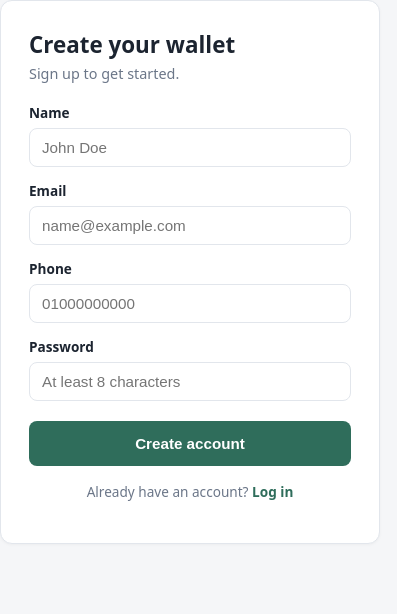
Register › shows a validation error when the password is too short
The width and height of the screenshot is (397, 614).
Type "Jane Doe" into the field labelled "Name".
click(190, 148); type("Jane Doe")  # box [29, 128, 351, 167]
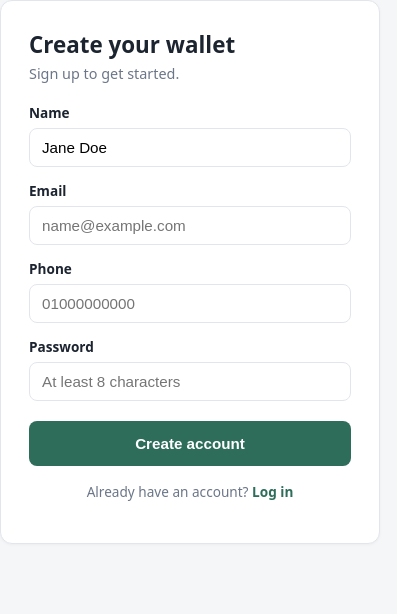
Type "jane@example.com" into the field labelled "Email".
click(190, 226); type("jane@example.com")  # box [29, 206, 351, 245]
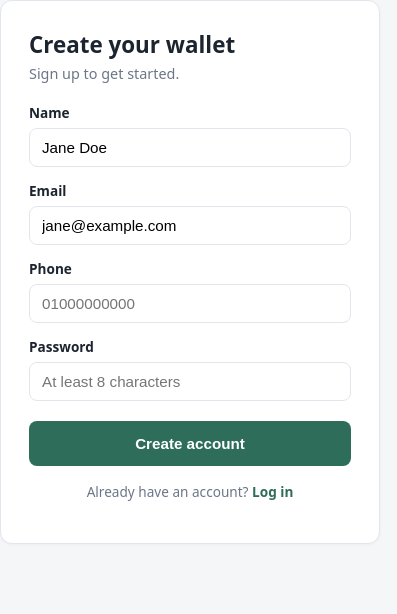
Type "0100000000" into the field labelled "Phone".
click(190, 304); type("0100000000")  # box [29, 284, 351, 323]
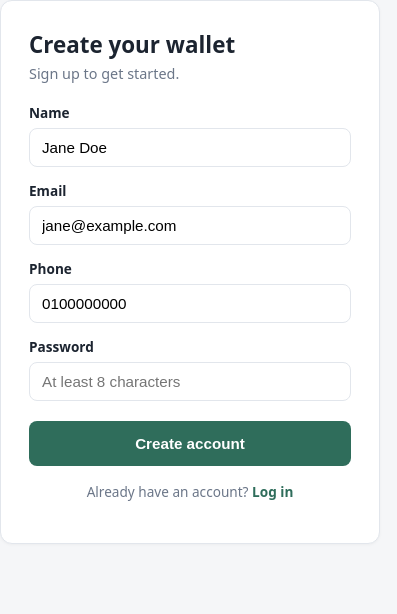
Type "short" into the password field labelled "Password".
click(190, 382); type("short")  # box [29, 362, 351, 401]
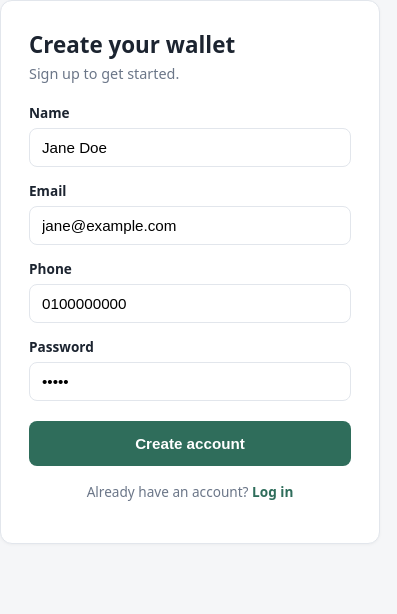
Click the button "Create account".
click(190, 444)  # box [29, 421, 351, 466]
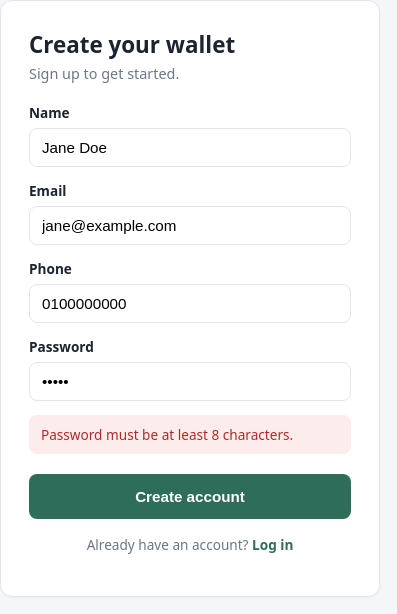
Check: the text "Password must be at least 8 characters." is shown, box [29, 415, 351, 454]
